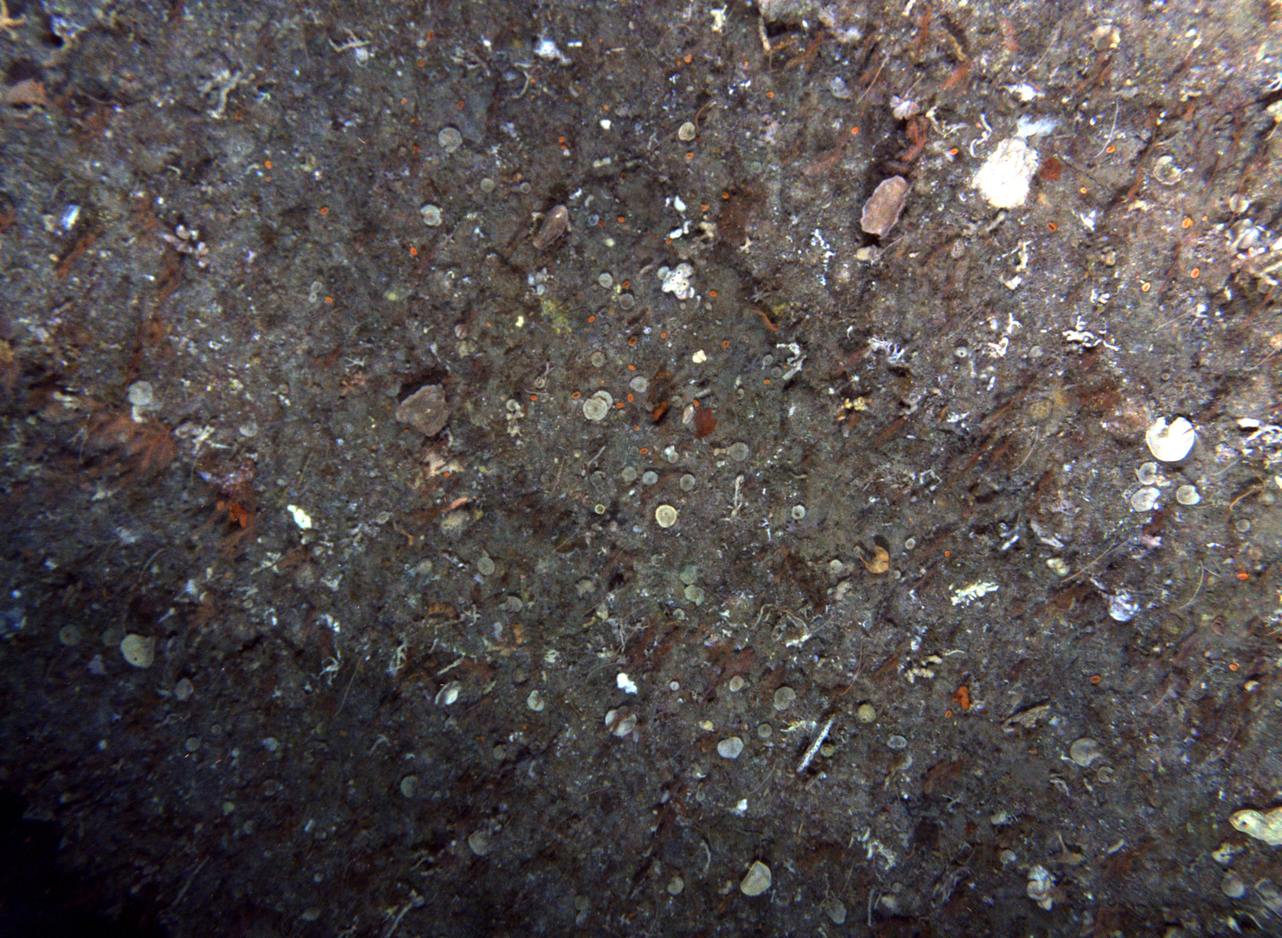Brachionichthyidae: (0, 78, 57, 115)
